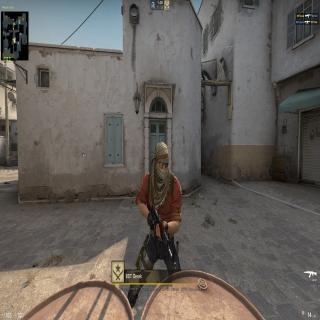T-Head: (152, 138, 170, 184)
